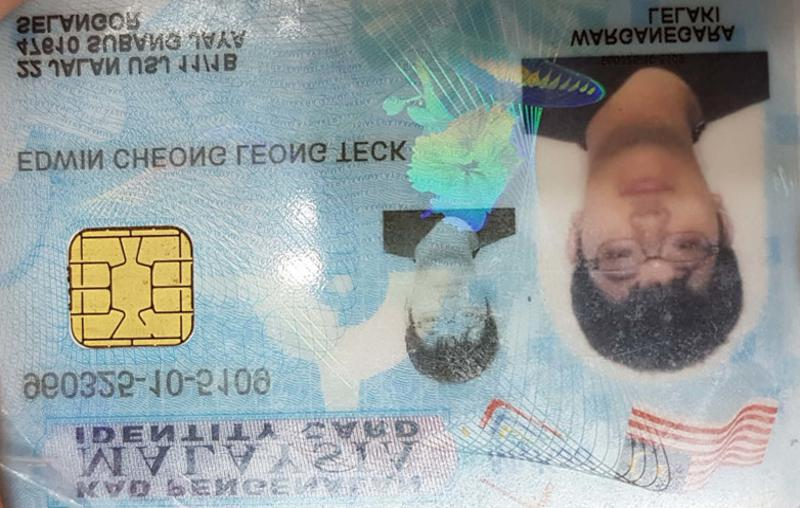hologramB: (403, 83, 526, 206)
